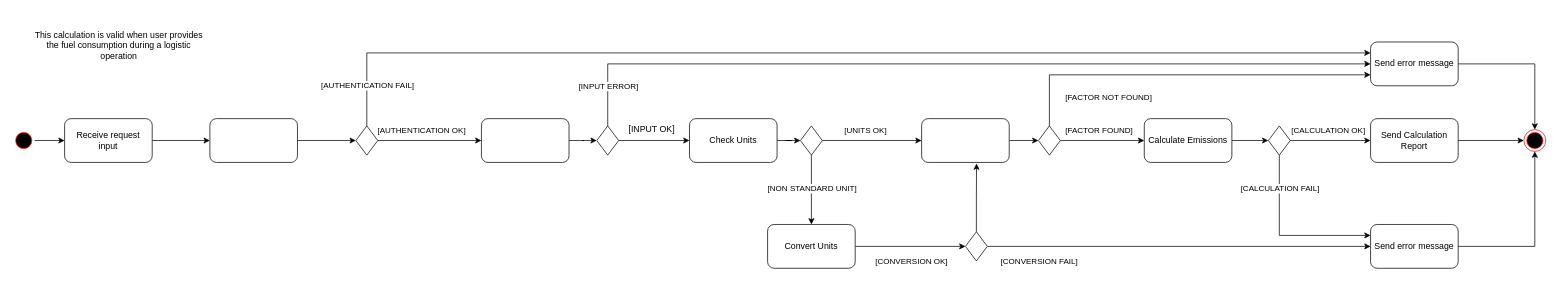
Some shapes in this 1559 by 281 pixel diagram are drawn without their labels. The box of each missing label's shape, as (x1, y1, x2, y2) in pixels:
Authenticate: (209, 118, 297, 162)
Look for Fuel Emission factor in DB: (921, 118, 1009, 162)
Validate Input: (481, 118, 569, 162)
